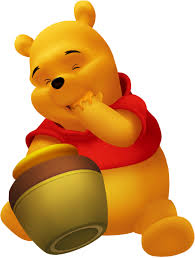Winnie: (7, 2, 154, 154)
